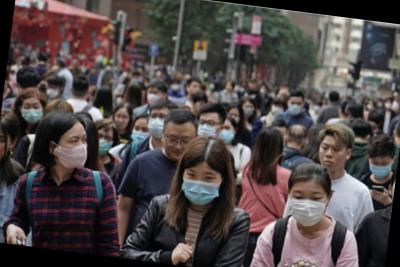with_mask: (286, 186, 331, 232), (180, 165, 226, 209), (53, 130, 91, 175), (145, 110, 171, 142), (195, 118, 222, 145), (368, 157, 394, 183), (20, 101, 44, 128), (94, 130, 115, 159), (129, 123, 153, 147), (144, 88, 164, 108), (219, 124, 237, 144), (286, 100, 305, 116), (45, 83, 61, 100), (242, 103, 256, 120), (227, 110, 241, 127), (271, 102, 286, 117), (384, 99, 395, 112), (366, 100, 377, 112), (171, 81, 181, 92), (377, 98, 386, 109), (209, 81, 217, 92), (105, 64, 114, 73), (259, 86, 267, 96), (314, 103, 322, 113)
without_mask: (315, 140, 350, 175), (160, 129, 195, 164), (112, 111, 130, 133), (188, 82, 202, 98)
